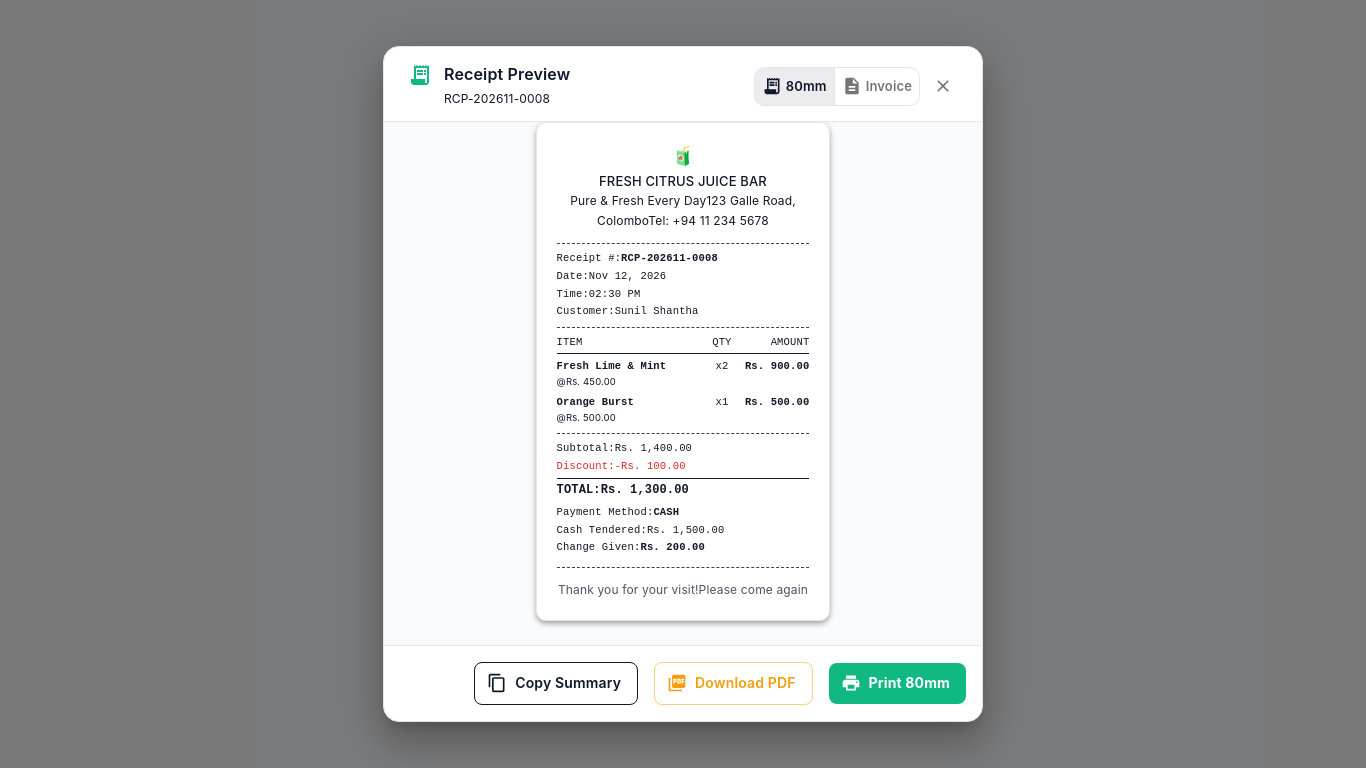
Test: ReceiptPreviewModal Suite › copies receipt text summary to clipboard when Copy Summary button is clicked
Click the button "Copy Summary". click: point(556, 683)
box: x1=474 y1=662 x2=638 y2=704
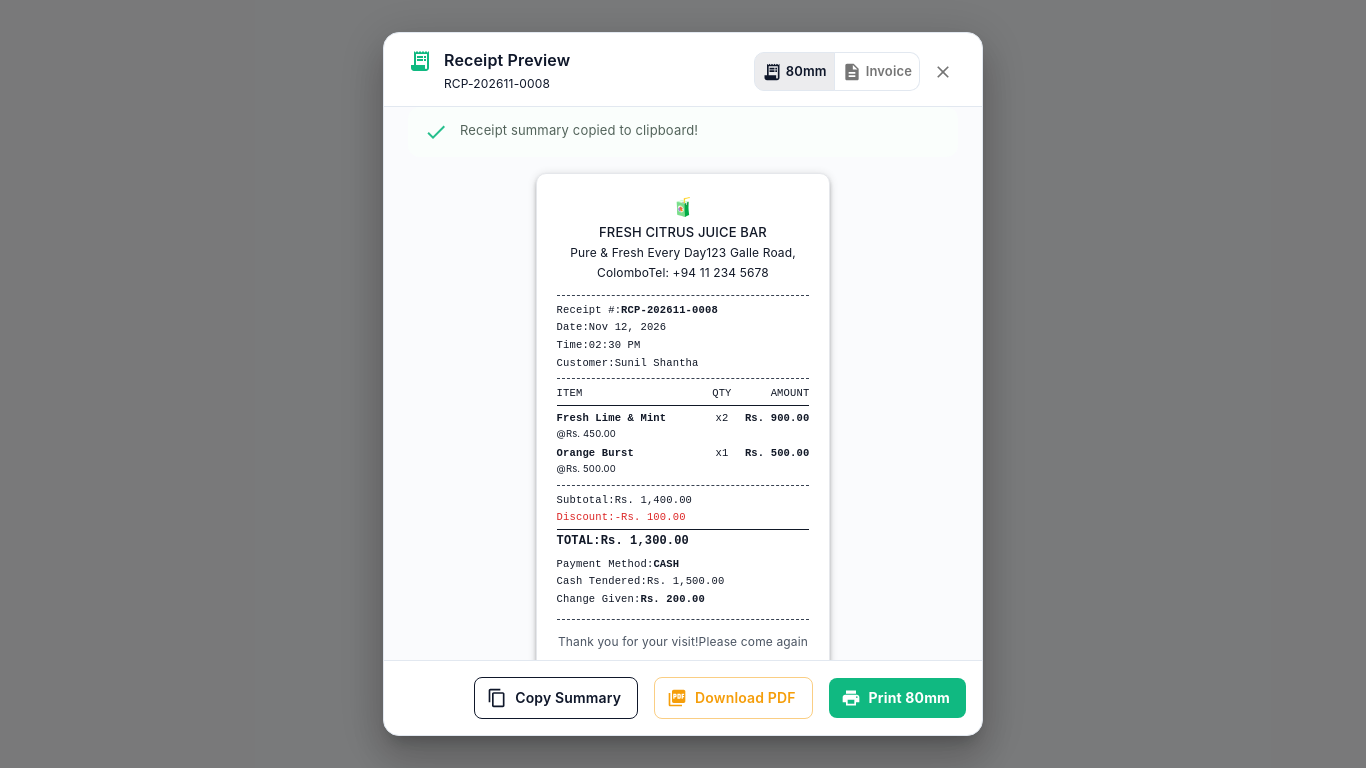
Check: the text "Receipt summary copied to clipboard!" is shown, box x1=460 y1=122 x2=698 y2=138
